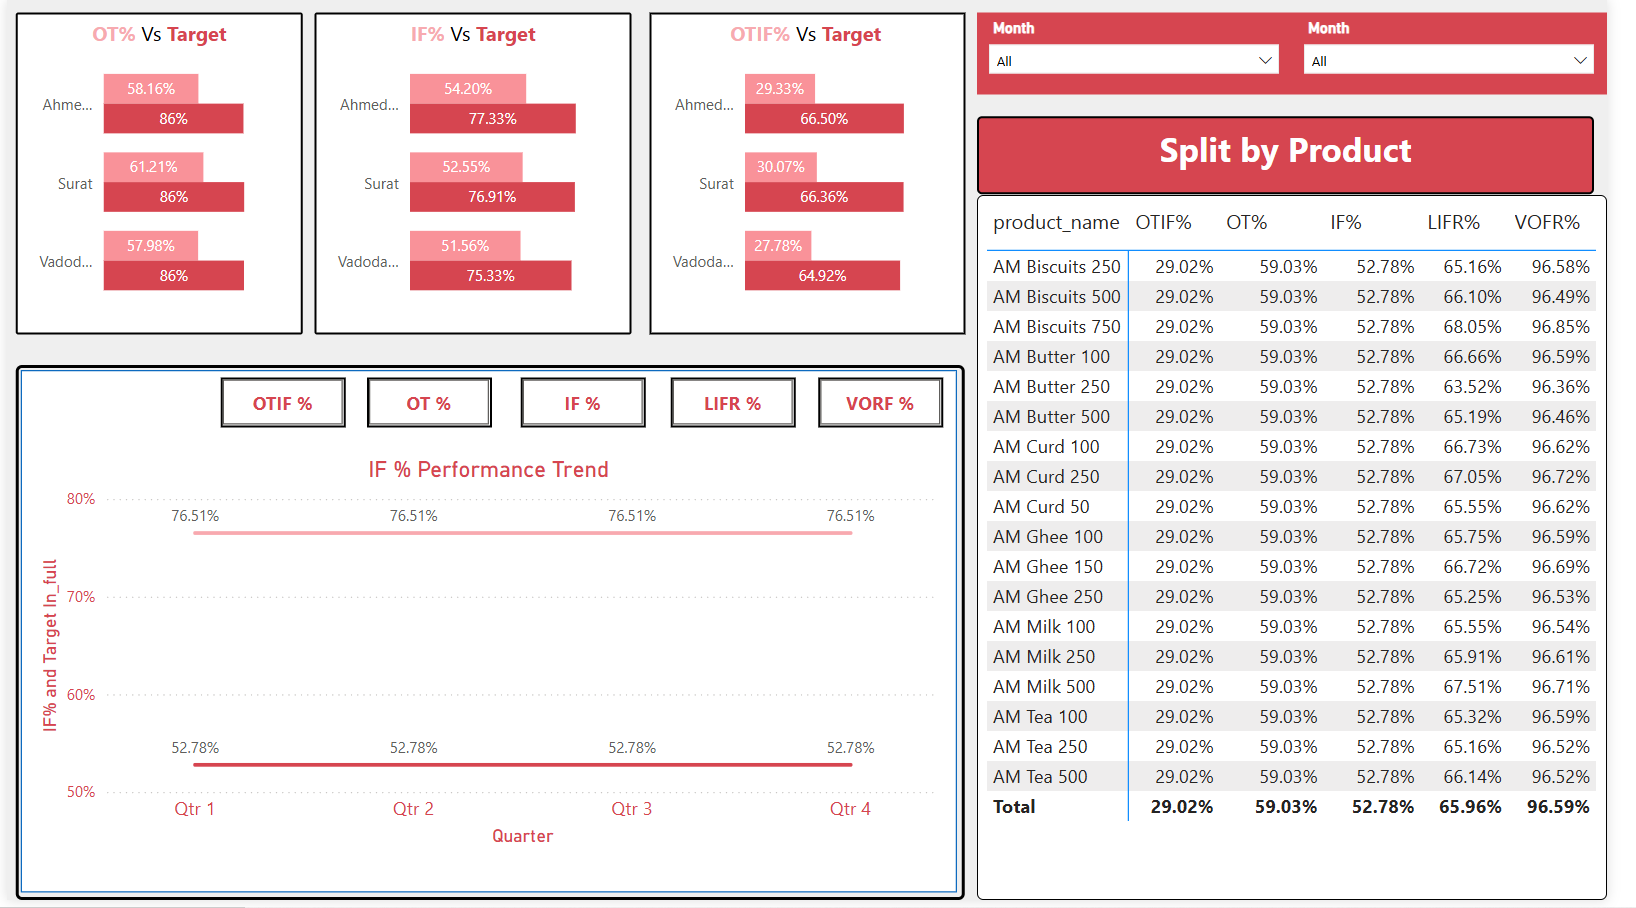

Layout of this report page (visuals, bound fields, positions):
{"tool":"powerbi","page":{"name":"PRODUCT TREND","canvas":[1280,720],"ordinal":2},"visuals":[{"type":"actionButton","box":[171.3,301.6,100,40],"z":0,"group":"g1"},{"type":"shape","box":[7.5,291.7,758.4,428.2],"z":0},{"type":"actionButton","box":[288,301.6,100,40],"z":1000,"group":"g1"},{"type":"pivotTable","fields":{"Values":["fact_orders_aggregate.OTIF%","fact_orders_aggregate.OT%","fact_orders_aggregate.IF%","fact_order_lines.LIFR%","fact_order_lines.VOFR%"],"Rows":["dim_products.product_name"]},"box":[775.8,156.4,504,563.5],"z":1000},{"type":"actionButton","box":[411.3,301.6,100,40],"z":2000,"group":"g1"},{"type":"textbox","box":[775.8,93.1,494,63.3],"z":2000},{"type":"actionButton","box":[649.6,301.6,100,40],"z":3000,"group":"g1"},{"type":"group","id":"g1","title":"IF Buttons","box":[171.3,301.6,578.4,39.7],"z":3000},{"type":"actionButton","box":[531.3,301.6,100,40],"z":4000,"group":"g1"},{"type":"clusteredBarChart","fields":{"Category":["dim_customers.city"],"Y":["fact_orders_aggregate.OT%","dim_targets_orders.Target On_time"]},"box":[7.5,9.9,229.6,258.2],"z":4000},{"type":"clusteredBarChart","fields":{"Category":["dim_customers.city"],"Y":["fact_orders_aggregate.IF%","dim_targets_orders.Target In_full"]},"box":[245.8,9.9,254.5,258.2],"z":5000},{"type":"clusteredBarChart","fields":{"Category":["dim_customers.city"],"Y":["fact_orders_aggregate.OTIF%","dim_targets_orders.Target Full & Time"]},"box":[513.9,9.9,253.2,258.2],"z":6000},{"type":"lineChart","title":"IF % Performance Trend","fields":{"Category":["dim_date.mmm_yy.Variation.Date Hierarchy.Quarter","dim_date.mmm_yy.Variation.Date Hierarchy.Month"],"Y":["fact_orders_aggregate.IF%","dim_targets_orders.Target In_full"]},"box":[21.4,351.2,728.6,330.9],"z":11000},{"type":"slicer","fields":{"Values":["fact_order_lines.actual_delivery_date.Variation.Date Hierarchy.Month"]},"box":[775.8,9.9,252,65.8],"z":12000},{"type":"slicer","fields":{"Values":["fact_order_lines.actual_delivery_date.Variation.Date Hierarchy.Month"]},"box":[1027.8,9.9,252,65.8],"z":13000},{"type":"textbox","box":[7.5,9.9,229.6,33.5],"z":14000},{"type":"textbox","box":[245.8,9.9,254.5,33.5],"z":15000},{"type":"textbox","box":[511.4,9.9,255.7,33.5],"z":16000}]}

Visuals, with their boxes in screenshot pixels (x1, y1, x2, y2), scaled from the page's 1280x720 canvas onto the 1636x908 screenshot:
actionButton: [219,380,347,431]
shape: [10,368,979,907]
actionButton: [368,380,496,431]
pivotTable - fact_orders_aggregate.OTIF% x fact_orders_aggregate.OT%: [992,197,1635,907]
actionButton: [526,380,654,431]
textbox: [992,117,1623,197]
actionButton: [830,380,958,431]
"IF Buttons" group: [219,380,958,430]
actionButton: [679,380,807,431]
clusteredBarChart - dim_customers.city x fact_orders_aggregate.OT%: [10,12,303,338]
clusteredBarChart - dim_customers.city x fact_orders_aggregate.IF%: [314,12,639,338]
clusteredBarChart - dim_customers.city x fact_orders_aggregate.OTIF%: [657,12,980,338]
"IF % Performance Trend" lineChart: [27,443,959,860]
slicer - fact_order_lines.actual_delivery_date.Variation.Date Hierarchy.Month: [992,12,1314,95]
slicer - fact_order_lines.actual_delivery_date.Variation.Date Hierarchy.Month: [1314,12,1635,95]
textbox: [10,12,303,55]
textbox: [314,12,639,55]
textbox: [654,12,980,55]
